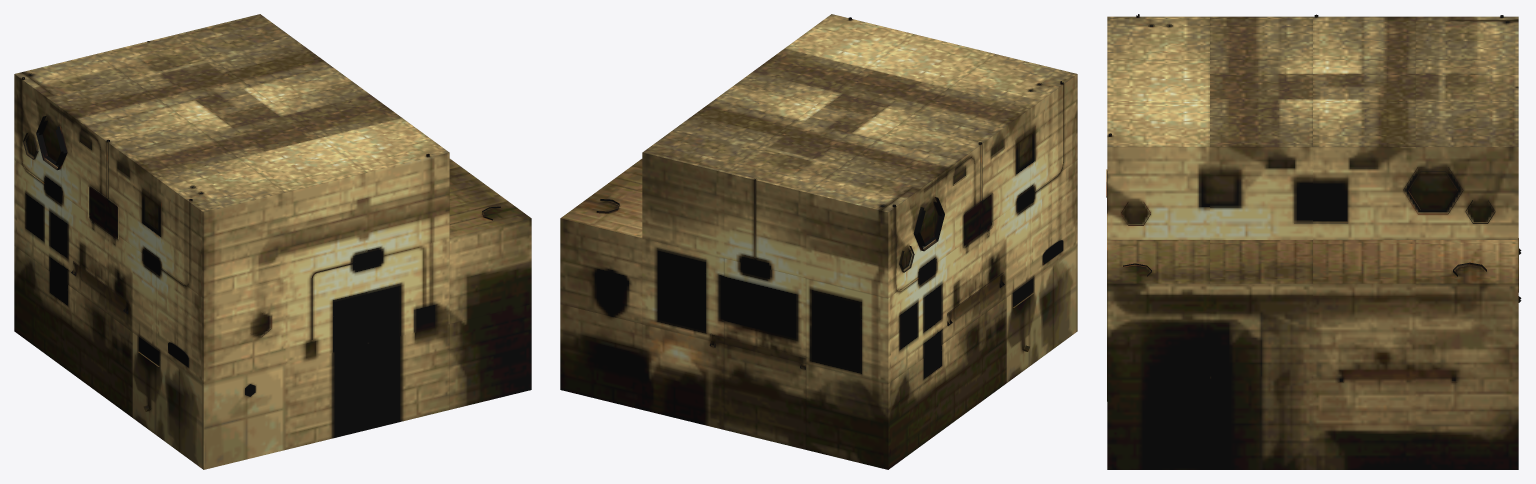
3 renders of one model, left to right at view 1: azimuth 30°, elevation 25°; view 2: azimuth 150°, elevation 25°; view 3: azimuth 270°, elevation 25°, orthographic. The views are drawn at different scales.
Visible parts, largest first — view 1: base; view 2: base; view 3: base.
Part boxes in pixels (x1,y1,x2,y2): base: (14, 14, 531, 469); base: (560, 14, 1077, 469); base: (1106, 14, 1521, 469).
Size of the model in its own units: 5.1 by 3.8 by 5.04.
Materials: 1 (1 with a texture image).
